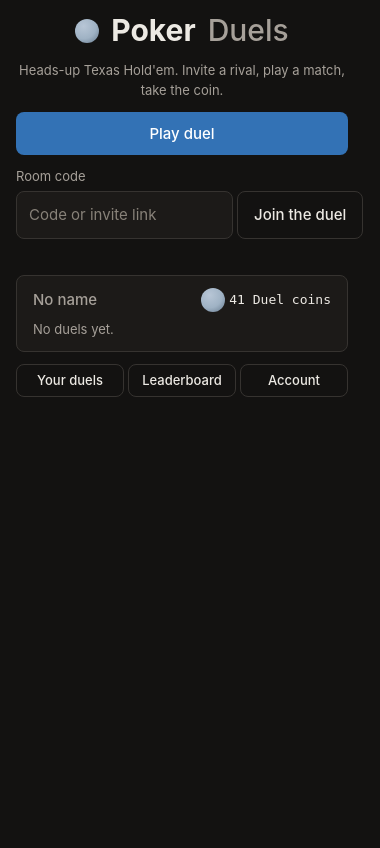
it: App › offers the way to sign in to a browser holding an anonymous profile
The width and height of the screenshot is (380, 848).
Click the button "Account" at (294, 381), box [240,364,348,397]
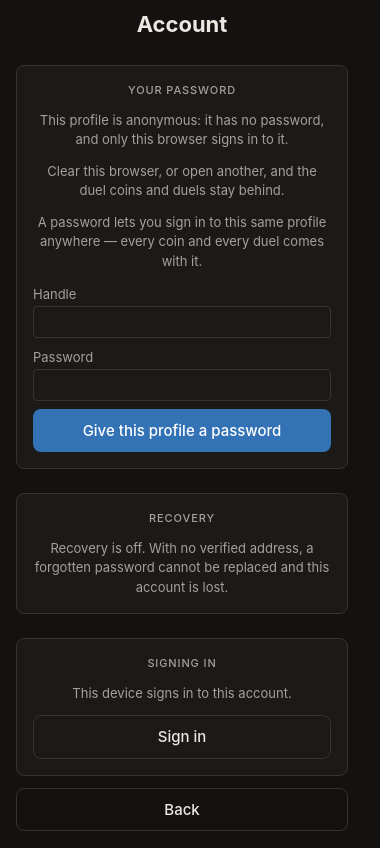
Check: the button "Sign in" is shown, box [33,715,331,759]
Check: the element named "sign up for an account" is shown, box [33,283,331,452]
